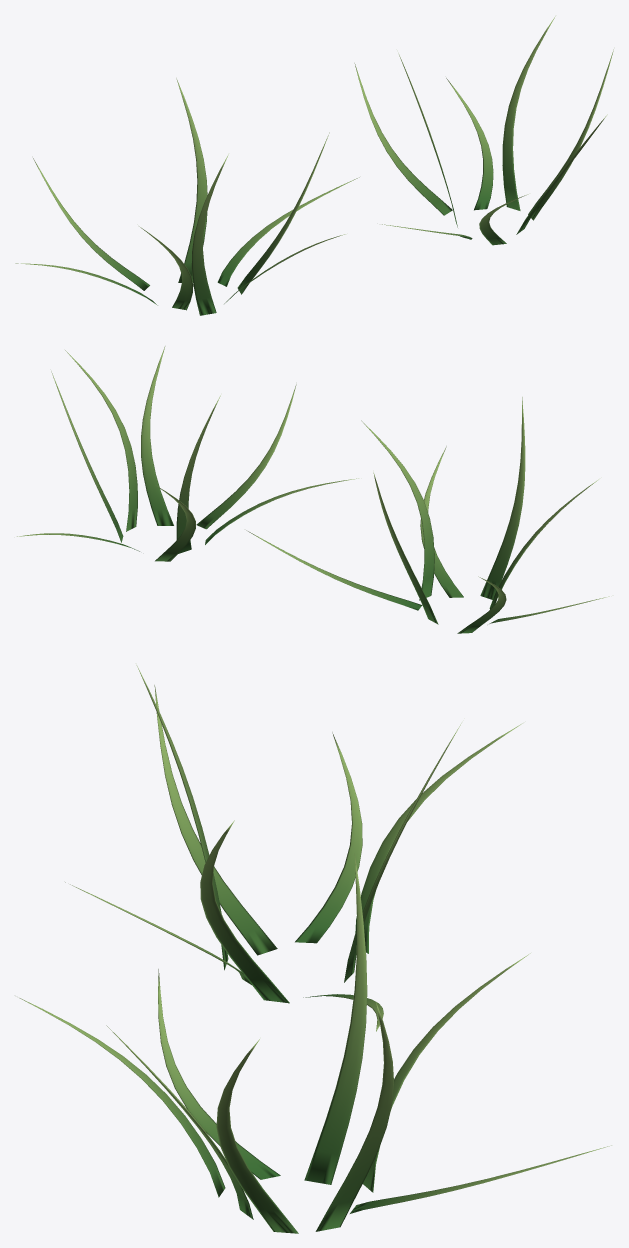
Rendered from grass-clumps.glb.
The picture shows the model from 3 angles, top to bottom: view 1: azimuth 30°, elevation 25°; view 2: azimuth 150°, elevation 25°; view 3: azimuth 270°, elevation 25°; orthographic projection. The views are drawn at different scales.
Visible parts, largest first — view 1: GrassClump_A, GrassClump_B; view 2: GrassClump_B, GrassClump_A; view 3: GrassClump_B, GrassClump_A.
Part boxes in pixels (box(x1,y1,x2,y2)): GrassClump_A: box(15, 78, 359, 315); GrassClump_B: box(354, 16, 613, 245); GrassClump_B: box(17, 346, 358, 561); GrassClump_A: box(246, 397, 609, 633); GrassClump_B: box(19, 853, 611, 1233); GrassClump_A: box(65, 665, 522, 1031).
Size of the model in its own units: 1.64 by 0.5 by 0.9157.
